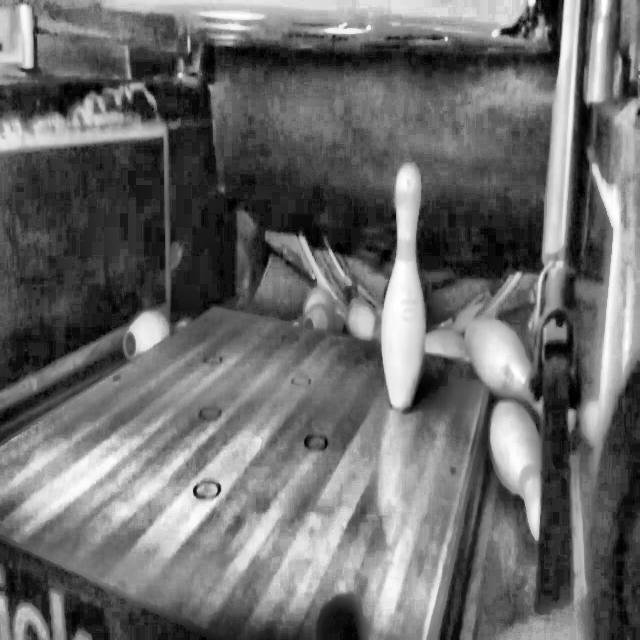bowling-pins: (382, 164, 426, 410)
sweep board: (0, 538, 230, 640)
